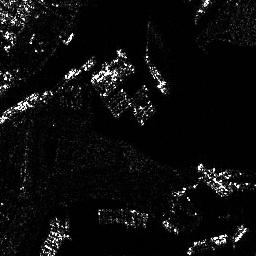ship: (195, 160, 230, 197), (1, 91, 40, 124), (143, 51, 168, 94), (63, 53, 96, 82)
